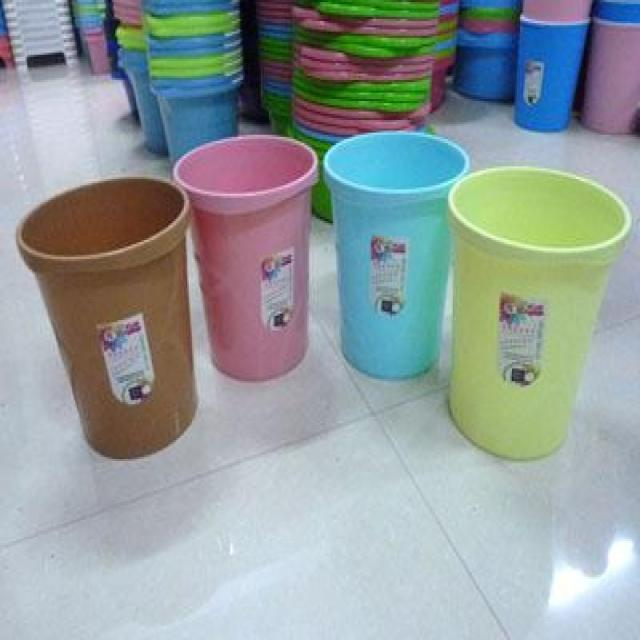dustbin: (444, 164, 634, 466), (10, 178, 200, 464), (322, 126, 472, 382), (171, 129, 321, 384)
